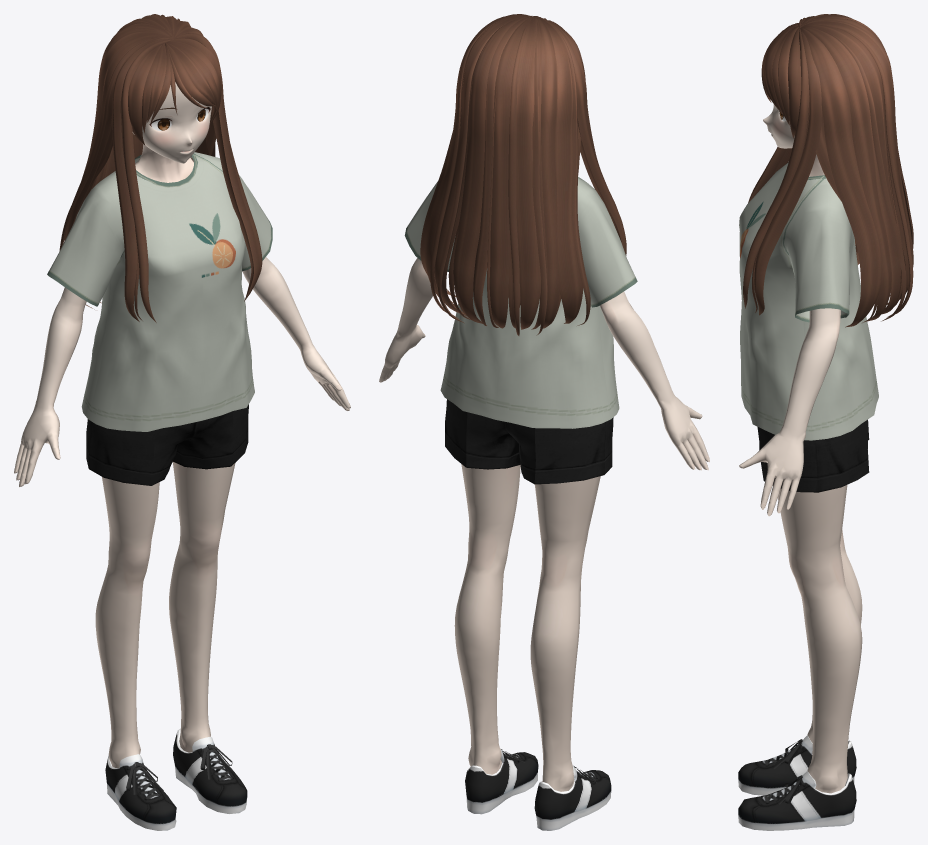
The model's file is guest-a.glb.
3 views of the same model, side by side, from view 1: azimuth 30°, elevation 25°; view 2: azimuth 150°, elevation 25°; view 3: azimuth 270°, elevation 25° (orthographic). The views are drawn at different scales.
Parts seen in each view (by area): view 1: Body, Hair, Face; view 2: Body, Hair; view 3: Body, Hair, Face.
Boxes of the visible parts, x1,y1,x2,y2 form: Body: (14,144,350,830); Hair: (59,14,262,322); Face: (132,82,211,163); Body: (379,176,709,830); Hair: (420,14,626,335); Body: (738,86,878,830); Hair: (743,14,913,327); Face: (763,87,794,148).
Size of the model in its own units: 0.7086 by 1.62 by 0.3271.
13 materials, 13 textured.
